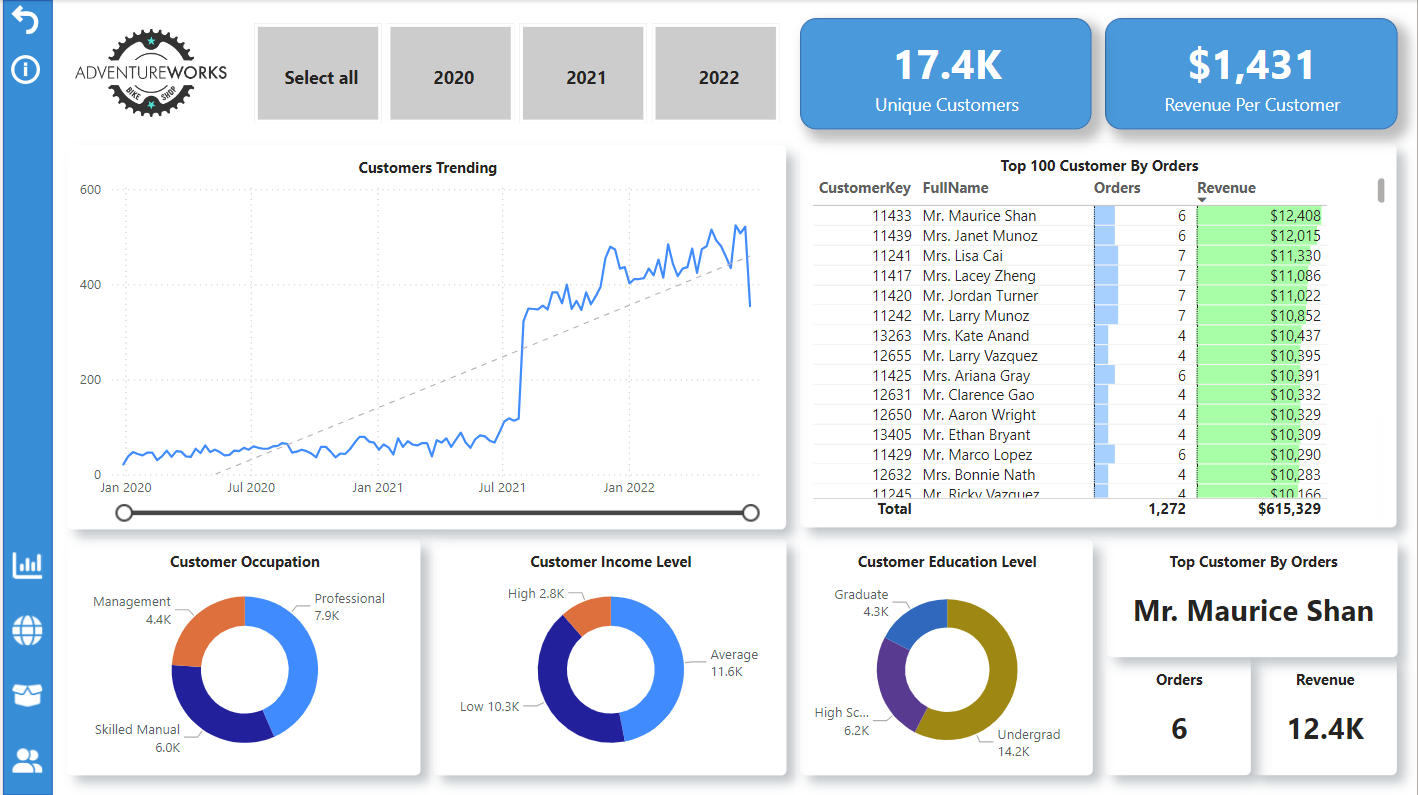

The dashboard page shown, as its layout file describes it:
{"tool":"powerbi","page":{"name":"Customer Detail","canvas":[1280,720],"ordinal":3},"visuals":[{"type":"shape","box":[0,0,45,720],"z":0},{"type":"actionButton","box":[4.9,493.9,35.4,35.4],"z":0,"group":"g1"},{"type":"actionButton","box":[4.9,552.6,35.4,35.4],"z":1000,"group":"g1"},{"type":"card","title":"Revenue","fields":{"Values":["Measure Table.Total Revenue (CD)"]},"box":[1130.1,594.6,132.3,107.1],"z":1000},{"type":"actionButton","box":[4.9,611.3,35.4,35.4],"z":2000,"group":"g1"},{"type":"card","title":"Orders","fields":{"Values":["Measure Table.Total Orders (CD)"]},"box":[997.8,594.6,132.3,107.1],"z":2000},{"type":"actionButton","box":[4.9,670,35.4,35.4],"z":3000,"group":"g1"},{"type":"card","title":"Top Customer By Orders","fields":{"Values":["CustomerLookup.FullName (Customer Detail)"]},"box":[999.1,487.6,263.3,107.1],"z":3000},{"type":"donutChart","title":"Customer Education Level","fields":{"Y":["Measure Table.Count Of Orders"],"Category":["CustomerLookup.Education Level"]},"box":[721.9,487.6,264.6,214.2],"z":4000},{"type":"donutChart","title":"Customer Income Level","fields":{"Y":["Measure Table.Count Of Orders"],"Category":["CustomerLookup.Income Level"]},"box":[389.3,487.6,320,214.2],"z":5000},{"type":"donutChart","title":"Customer Occupation","fields":{"Y":["Measure Table.Count Of Orders"],"Category":["CustomerLookup.Occupation"]},"box":[58,487.6,320,214.2],"z":6000},{"type":"tableEx","title":"Top 100 Customer By Orders","fields":{"Values":["CustomerLookup.CustomerKey","CustomerLookup.FullName","Measure Table.Count Of Orders","Measure Table.Total Revenue"]},"box":[721.9,129.8,540,347.7],"z":7000},{"type":"lineChart","fields":{"Y":["Measure Table.Average Revenue Per Customer"],"Category":["CalendarLookup.Date Hierarchy.Start of Year","CalendarLookup.Date Hierarchy.Start of Month","CalendarLookup.Date Hierarchy.Start of Week","CalendarLookup.Date Hierarchy.Date"]},"box":[58,131,651.3,347.7],"z":8000},{"type":"card","fields":{"Values":["Measure Table.Average Revenue Per Customer"]},"box":[997.8,16.4,264.6,100.8],"z":9000},{"type":"card","fields":{"Values":["Measure Table.Total Customers"]},"box":[721.9,16.4,264,100.8],"z":10000},{"type":"advancedSlicerVisual","fields":{"Values":["CalendarLookup.Year"]},"box":[222.6,16,486.8,64.7],"z":11000},{"type":"image","title":"AW Logo","box":[45.2,0,177.7,131.3],"z":12000},{"type":"actionButton","box":[2.5,0,35,35],"z":13000},{"type":"actionButton","box":[3,45.3,35.4,35.4],"z":14000},{"type":"group","id":"g1","title":"Nav Buttons","box":[4.9,493.9,35.4,211.5],"z":15000},{"type":"slicer","fields":{"Values":["Customer Metric Selection.Customer Metric Selection"]},"box":[222.6,80.7,486.8,36.4],"z":16000}]}

Visuals, with their boxes on the page's 1280x720 design canvas (x1, y1, x2, y2). These are canvas units, not pixel positions in the 1418x795 screenshot, which may show the page scaled, cropped or inside an application window:
shape: <region>0, 0, 45, 720</region>
actionButton: <region>5, 494, 40, 529</region>
actionButton: <region>5, 553, 40, 588</region>
"Revenue" card: <region>1130, 595, 1262, 702</region>
actionButton: <region>5, 611, 40, 647</region>
"Orders" card: <region>998, 595, 1130, 702</region>
actionButton: <region>5, 670, 40, 705</region>
"Top Customer By Orders" card: <region>999, 488, 1262, 595</region>
"Customer Education Level" donutChart: <region>722, 488, 986, 702</region>
"Customer Income Level" donutChart: <region>389, 488, 709, 702</region>
"Customer Occupation" donutChart: <region>58, 488, 378, 702</region>
"Top 100 Customer By Orders" tableEx: <region>722, 130, 1262, 478</region>
lineChart - Measure Table.Average Revenue Per Customer x CalendarLookup.Date Hierarchy.Start of Year: <region>58, 131, 709, 479</region>
card - Measure Table.Average Revenue Per Customer: <region>998, 16, 1262, 117</region>
card - Measure Table.Total Customers: <region>722, 16, 986, 117</region>
advancedSlicerVisual - CalendarLookup.Year: <region>223, 16, 709, 81</region>
"AW Logo" image: <region>45, 0, 223, 131</region>
actionButton: <region>2, 0, 38, 35</region>
actionButton: <region>3, 45, 38, 81</region>
"Nav Buttons" group: <region>5, 494, 40, 705</region>
slicer - Customer Metric Selection.Customer Metric Selection: <region>223, 81, 709, 117</region>
